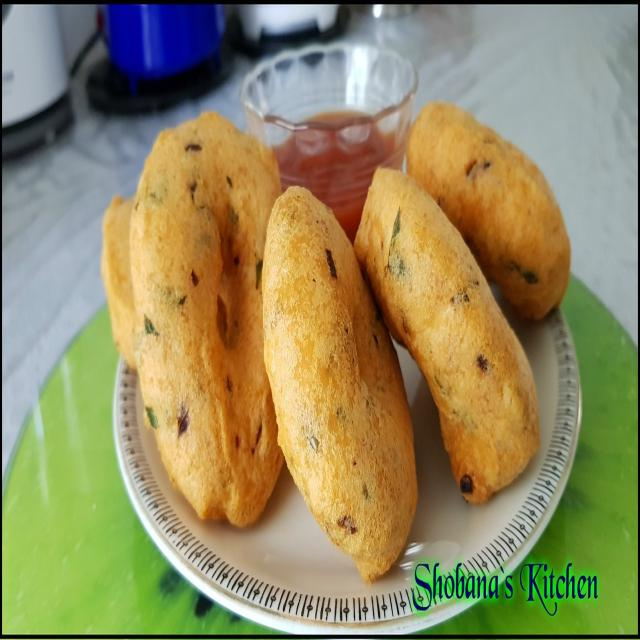medu vadai: (100, 98, 584, 577)
